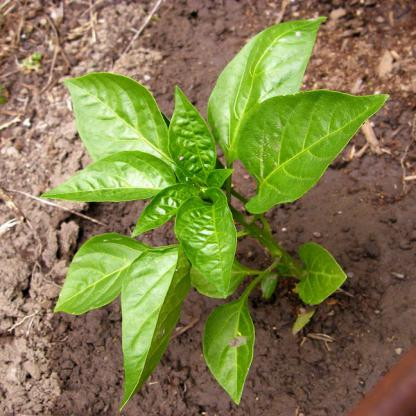bell pepper leaf: (236, 90, 392, 214), (57, 71, 173, 182), (119, 245, 193, 404), (53, 233, 172, 315), (36, 154, 184, 215), (177, 189, 240, 304), (198, 297, 256, 409), (160, 83, 218, 188), (291, 241, 347, 304), (132, 184, 198, 235)
